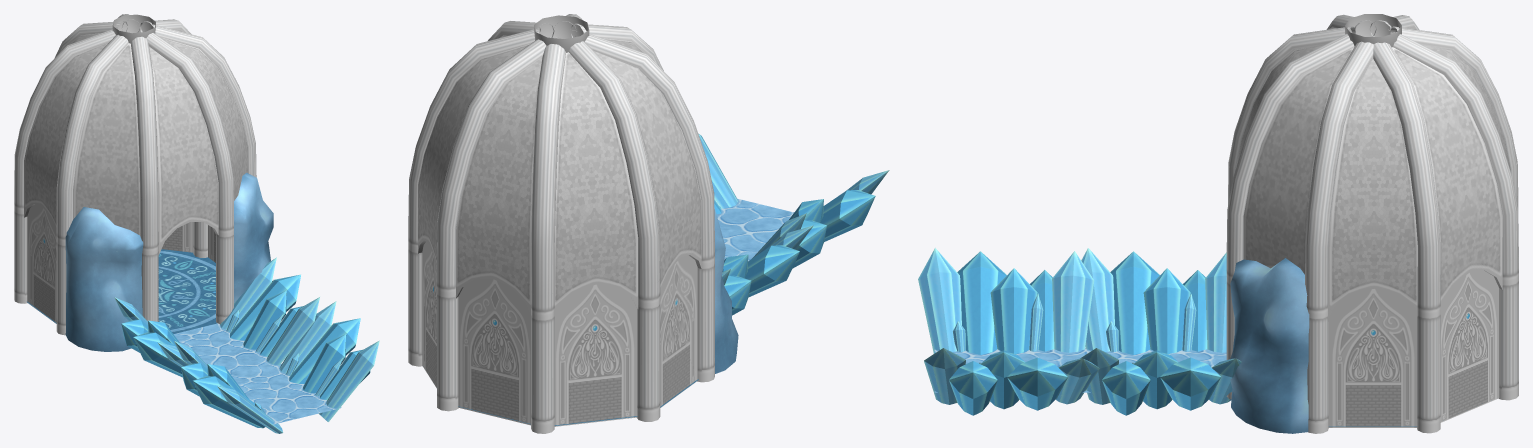
The model's file is sorrow_dome.fbx.
3 renders of one model, left to right at view 1: azimuth 30°, elevation 25°; view 2: azimuth 150°, elevation 25°; view 3: azimuth 270°, elevation 25°, orthographic. The views are drawn at different scales.
Visible parts, largest first — view 1: sorrow_dome; view 2: sorrow_dome; view 3: sorrow_dome.
Part boxes in pixels (bbox=[...]): sorrow_dome: bbox=[14, 14, 379, 433]; sorrow_dome: bbox=[408, 14, 889, 433]; sorrow_dome: bbox=[918, 14, 1518, 433].
Bounding box in the file's own units: 1963 × 2690 × 3976.
